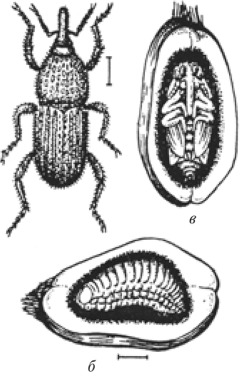dolgonosik: (2, 1, 122, 233)
